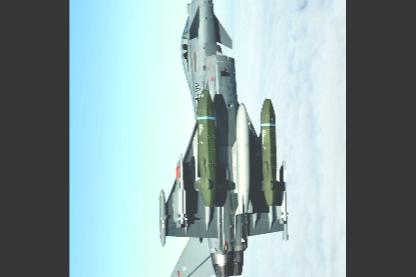E2: (158, 0, 289, 276)
